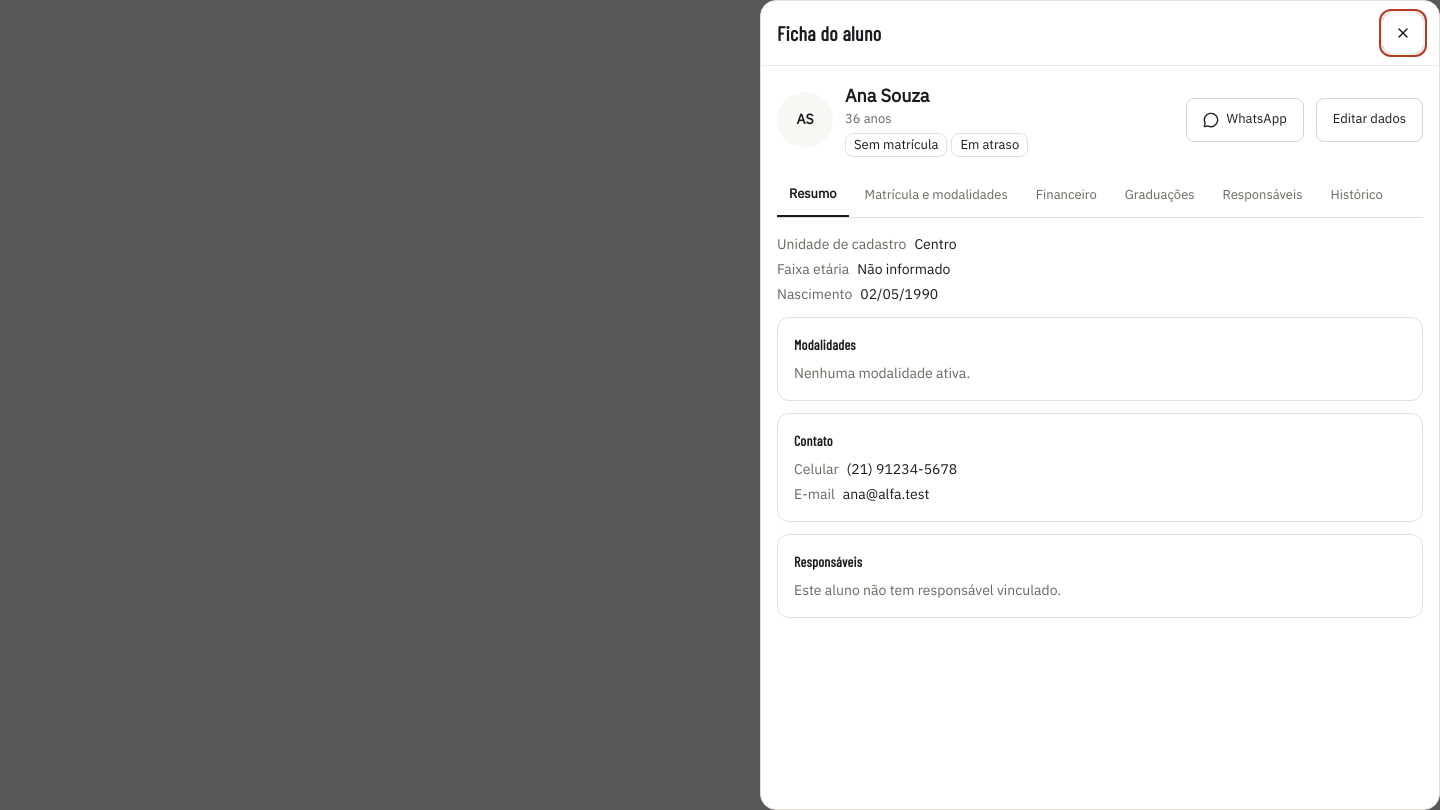
aba Financeiro da ficha (RF-COB-02, R14) › CA18: lista as cobranças com situação em texto, vencimento, valor e meio da paga; o cabeçalho mostra Em atraso; o clique abre o painel
Click the tab "Financeiro" at (1066, 195), box [1024,173,1109,217]
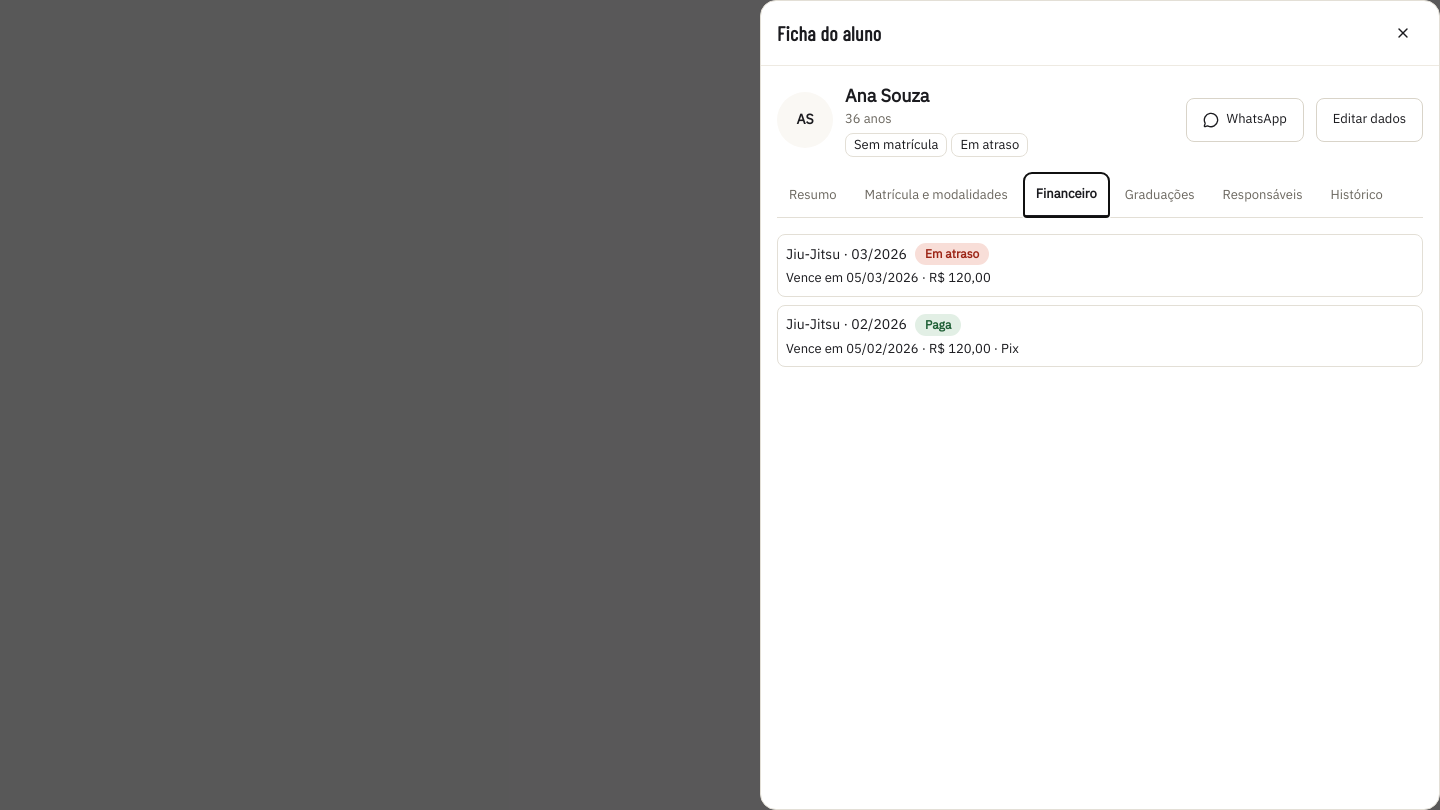
Now the text "Vence em 05/03/2026 · R$ 120,00" is shown, box [786,269,991,288]
Now the text "Vence em 05/02/2026 · R$ 120,00 · Pix" is shown, box [786,340,1019,358]
Now the text "Paga" is shown, box [915,314,961,336]
Click the button with aria-label "Abrir cobrança de Ana Souza: Jiu-Jitsu · 03/2026" at (847, 254), box [786,243,1414,288]
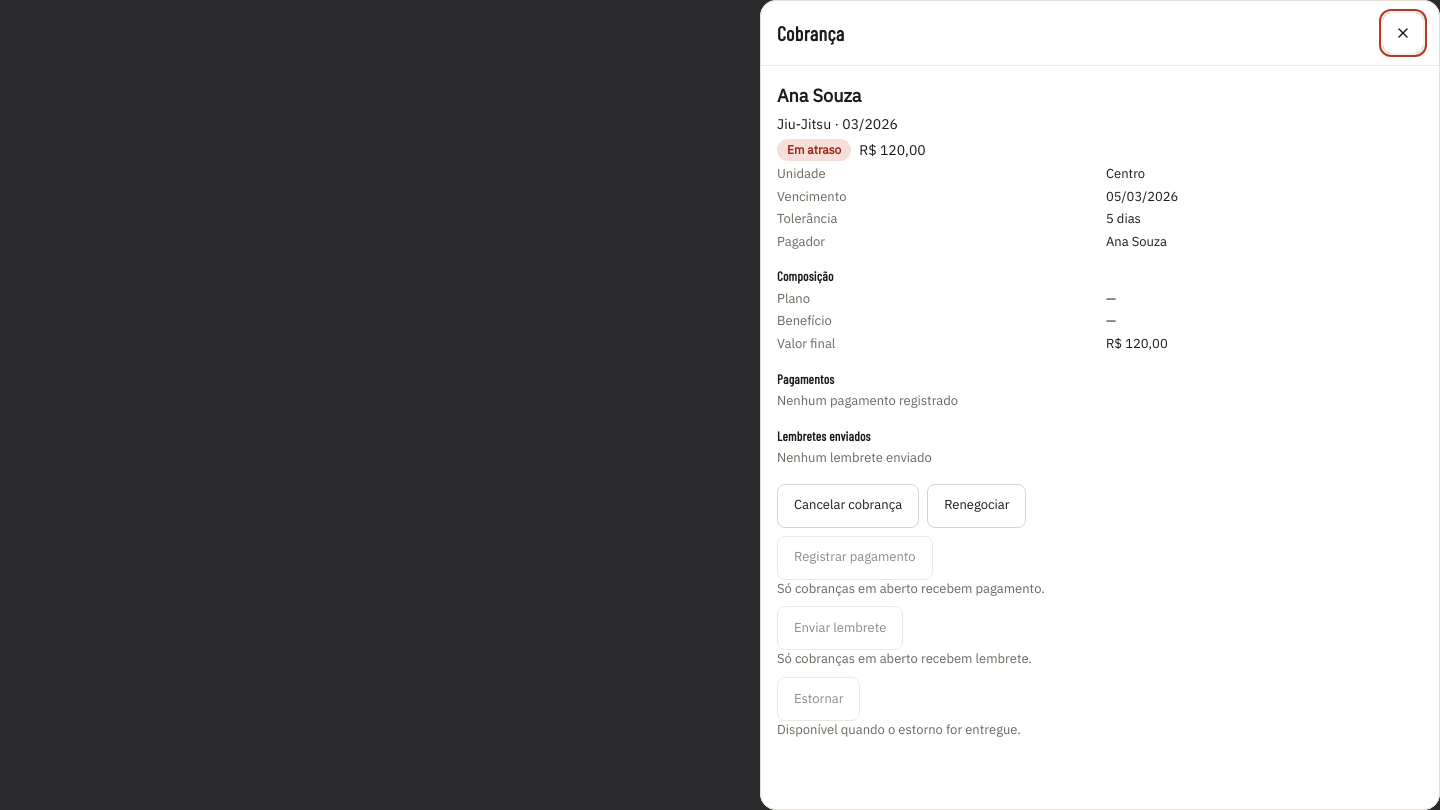
Now the button "Renegociar" is enabled, box [927,484,1026,528]
